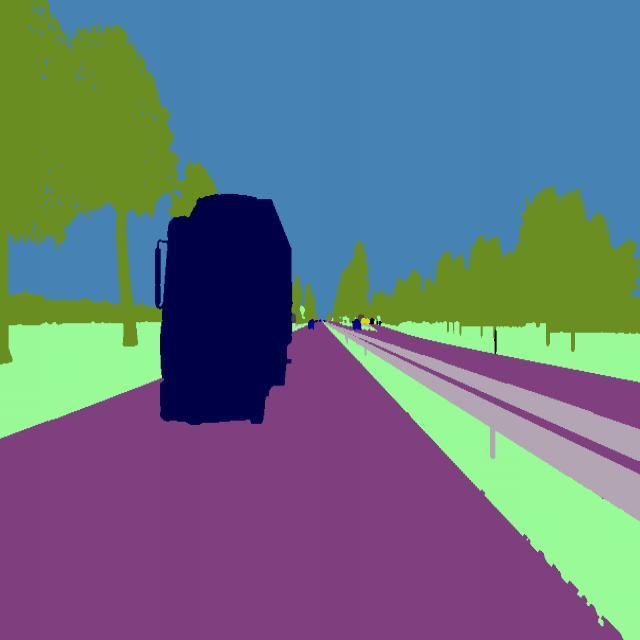safe: (348, 314, 362, 338), (304, 318, 316, 333)
unsafe: (153, 185, 301, 431)
